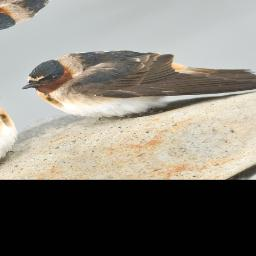Swallow: (6, 1, 256, 157)
